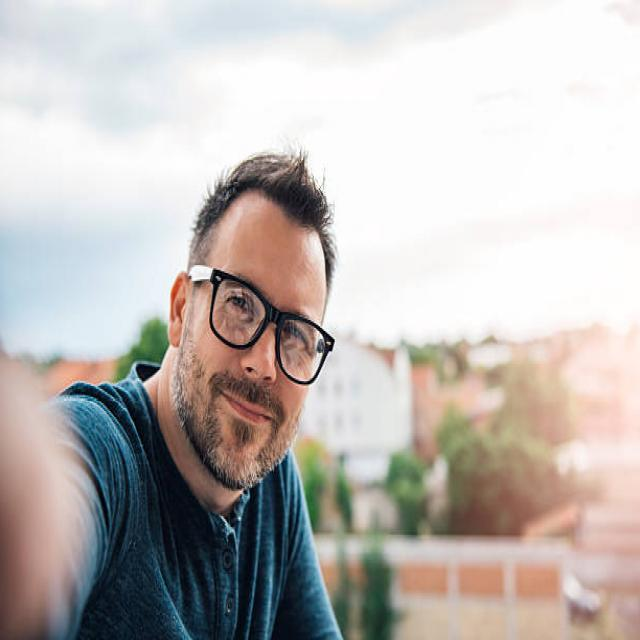earlobe: (168, 320, 182, 348)
eye: (224, 292, 256, 320), (282, 322, 308, 351)
nose: (242, 366, 276, 391)
wholeear: (168, 270, 190, 348)
